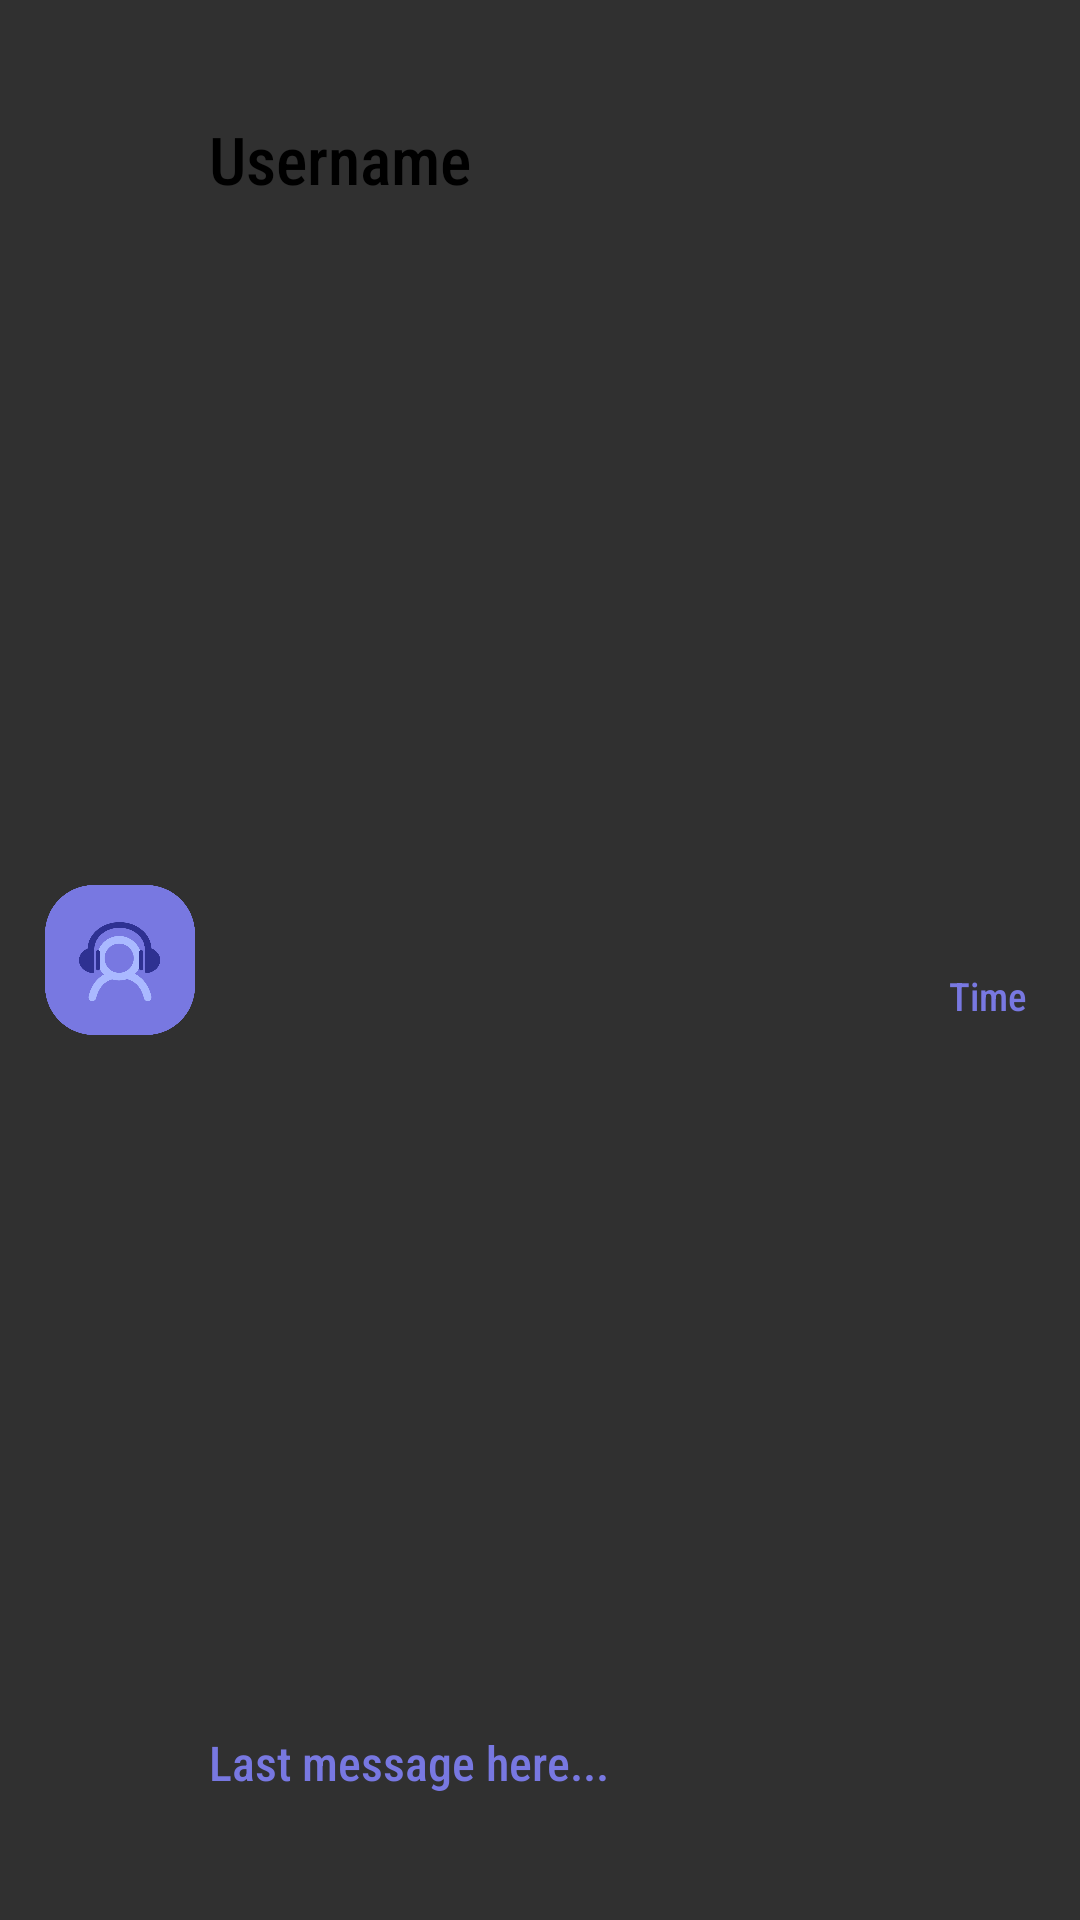

Named icons in this screenshot (1080 x 1920) and their centers, (x,y):
chat profile: (120,960)
